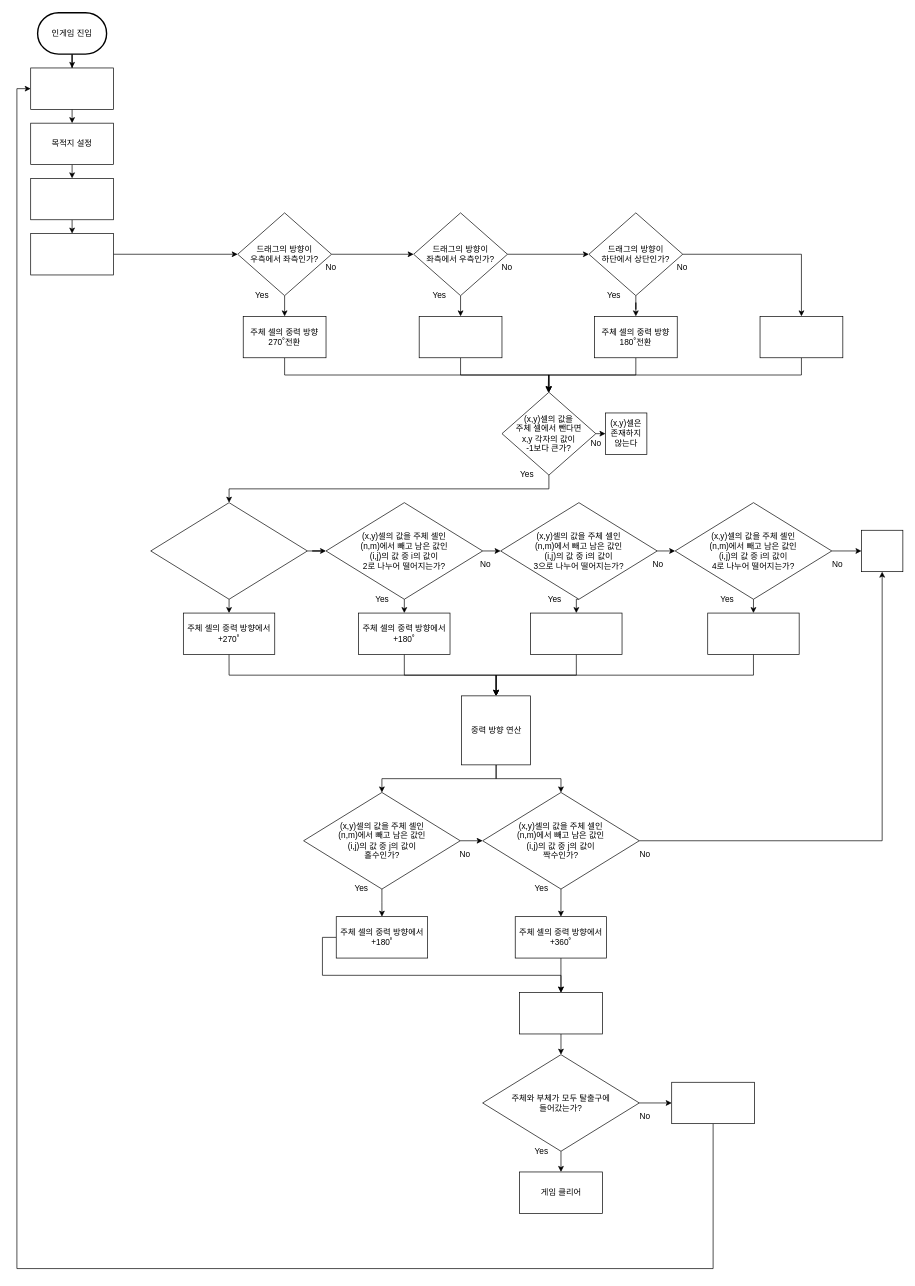
The diagram is 915 pixels wide and 1286 high, and some of its shapes have lost their labels. The shapes that lost their labels are listed below. From the top down, each one's centre as x and y in pixels, then its label:
At pixel 72 88: "주체 설정".
At pixel 72 199: "주체 이동".
At pixel 72 254: "드래그 실행".
At pixel 460 337: "주체 셀의 중력 방향 90˚전환".
At pixel 801 337: "주체 셀의 중력 방향 360˚전환".
At pixel 228 550: "(x,y)셀의 값을 주체 셀인 (n,m)에서 빼고 남은 값인 (i,j)의 값 중 i의 값이 1인가?".
At pixel 882 551: "연산하지 않는다".
At pixel 576 633: "주체 셀의 중력 방향에서 +90˚".
At pixel 753 633: "주체 셀의 중력 방향에서 +0˚".
At pixel 560 1013: "주체와 부체이동".
At pixel 713 1103: "리스타트".
